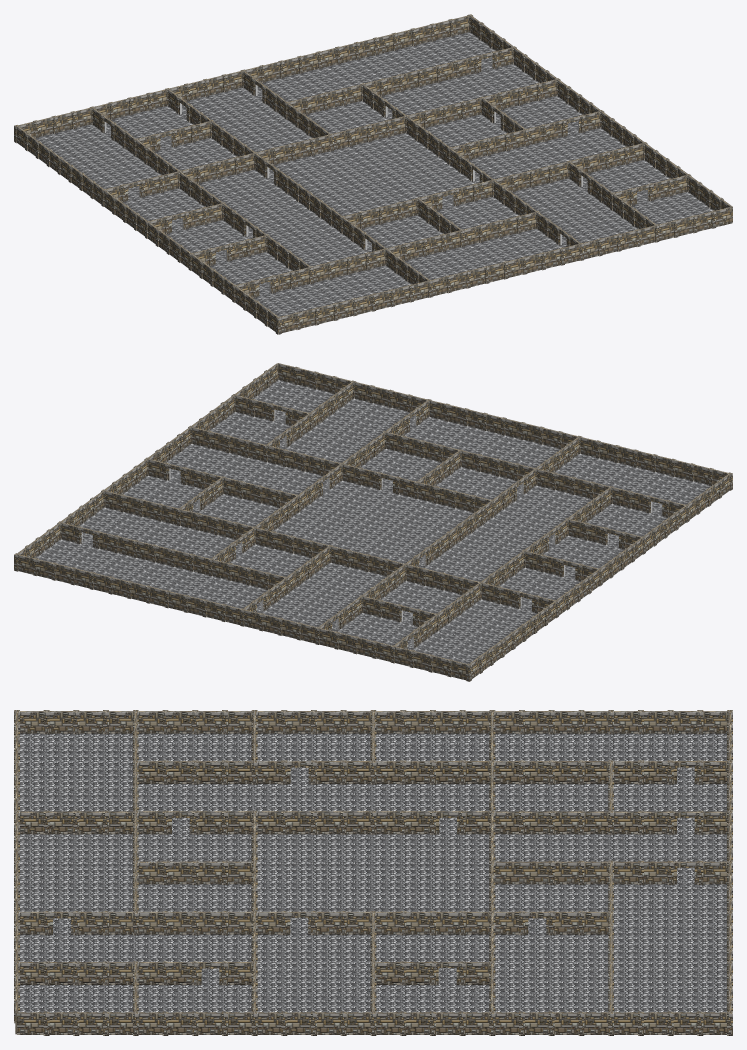
Rendered from tempChunk.fbx.
3 views of the same model, one above another, from view 1: azimuth 30°, elevation 25°; view 2: azimuth 150°, elevation 25°; view 3: azimuth 270°, elevation 25° (orthographic). The views are drawn at different scales.
Visible parts, largest first — view 1: Plane_21, Plane_22, Plane_17, Plane_34, Plane_36, Plane_8, Plane_23, Plane_15, Plane_31, Plane_32, Plane_25, Plane_3 (+79 smaller); view 2: Plane_15, Plane_17, Plane_2, Plane_16, Plane_30, Plane_11, Plane_28, Plane_13, Plane_25, Plane_21, Plane_32, Plane_31 (+81 smaller); view 3: Plane_22, Plane_16, Plane_26, Plane_14, Plane_32, Plane_6, Plane_33, Plane_4, Plane_15, Plane_8, Plane_3, Plane_11 (+58 smaller).
Boxes of the visible parts, <box> form: Plane_21: <box>332,133,447,182</box>; Plane_22: <box>268,151,373,196</box>; Plane_17: <box>241,201,340,246</box>; Plane_34: <box>181,87,284,132</box>; Plane_36: <box>35,124,133,169</box>; Plane_8: <box>512,178,610,223</box>; Plane_23: <box>198,170,296,214</box>; Plane_15: <box>375,164,476,208</box>; Plane_31: <box>396,32,494,70</box>; Plane_32: <box>321,50,421,87</box>; Plane_25: <box>440,64,538,101</box>; Plane_3: <box>463,228,563,265</box>; Plane_15: <box>300,480,415,529</box>; Plane_17: <box>451,517,553,562</box>; Plane_2: <box>312,398,414,443</box>; Plane_16: <box>374,499,473,543</box>; Plane_30: <box>439,599,537,644</box>; Plane_11: <box>494,485,592,530</box>; Plane_28: <box>289,562,386,607</box>; Plane_13: <box>166,444,264,482</box>; Plane_25: <box>79,507,177,546</box>; Plane_21: <box>273,512,372,549</box>; Plane_32: <box>109,557,209,594</box>; Plane_31: <box>35,539,134,576</box>; Plane_22: <box>373,833,489,883</box>; Plane_16: <box>257,834,373,883</box>; Plane_26: <box>495,934,608,984</box>; Plane_14: <box>257,934,370,984</box>; Plane_32: <box>614,934,726,984</box>; Plane_6: <box>20,733,132,783</box>; Plane_33: <box>614,883,726,933</box>; Plane_4: <box>20,834,132,883</box>; Plane_15: <box>257,883,373,933</box>; Plane_8: <box>135,934,251,984</box>; Plane_3: <box>20,883,132,933</box>; Plane_11: <box>138,784,254,833</box>.
Size of the model in its own units: 242 by 8.12 by 242.
510 materials, 510 textured.
